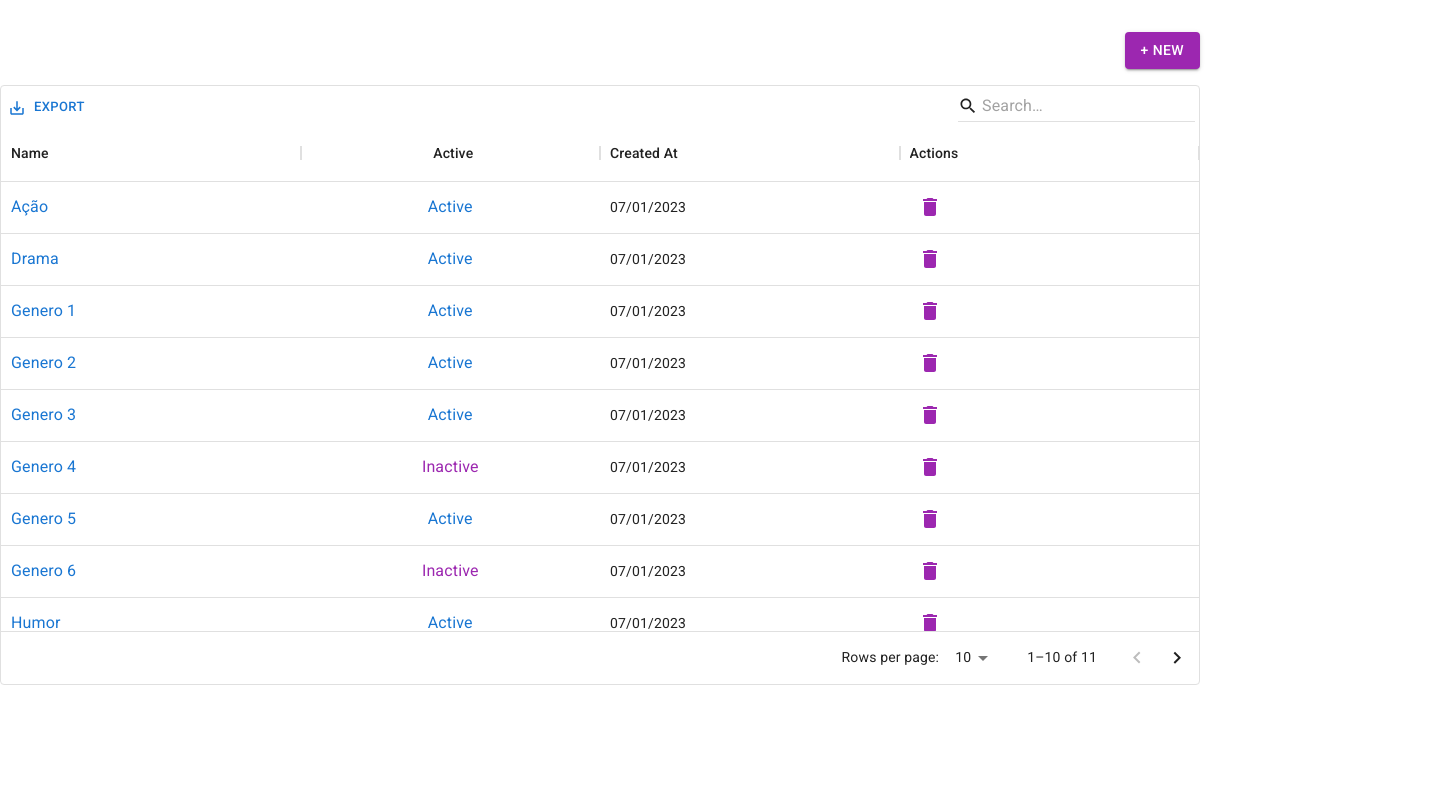
List genre › should handle delete genre error
This screenshot has width=1440, height=810.
expect the text "Ação" is shown: met, box [11, 195, 48, 219]
Click the button with test id "delete-button" in the row of "Ação" at x=930, y=207, box [910, 187, 950, 227]
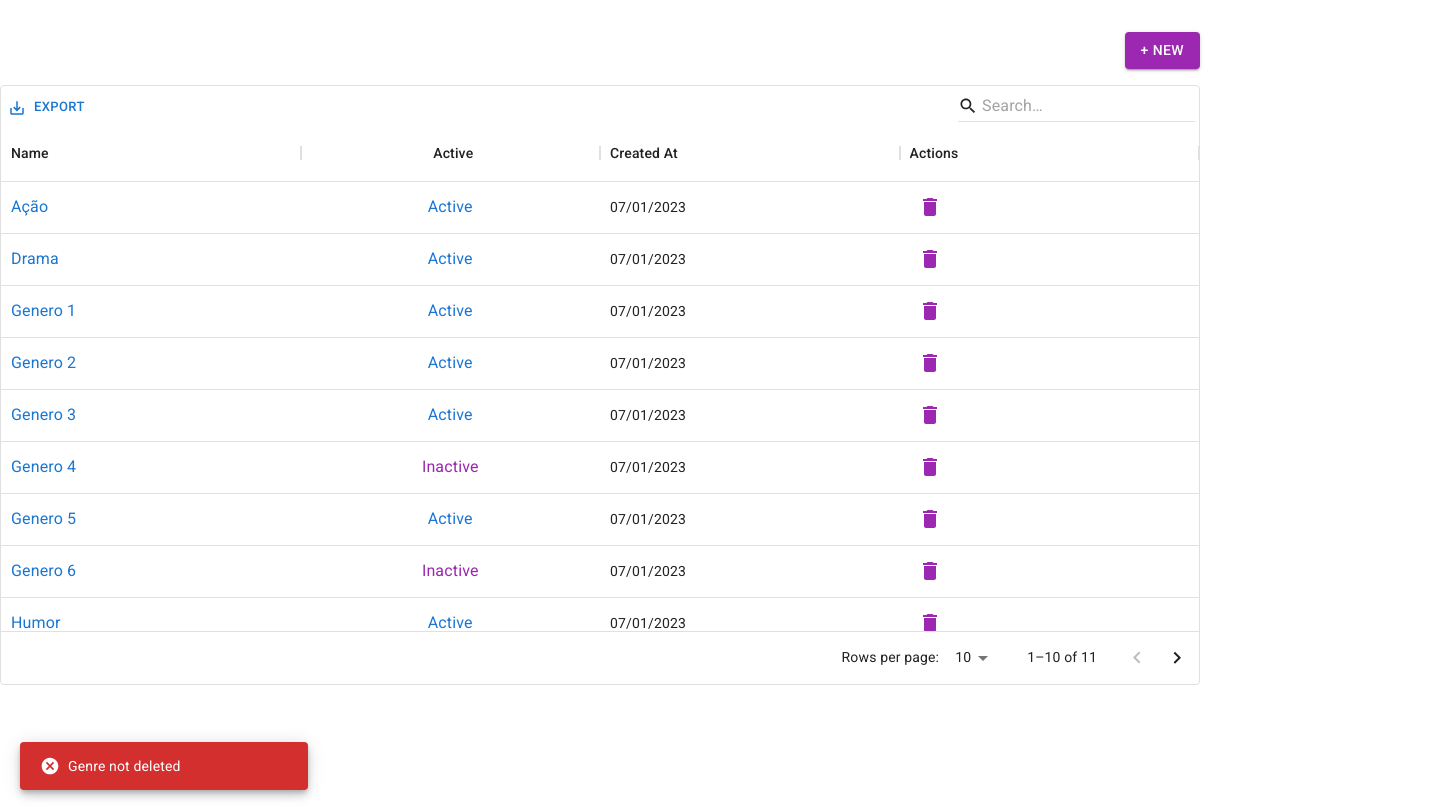
expect the text "Genre not deleted" is shown: met, box [40, 756, 181, 776]
